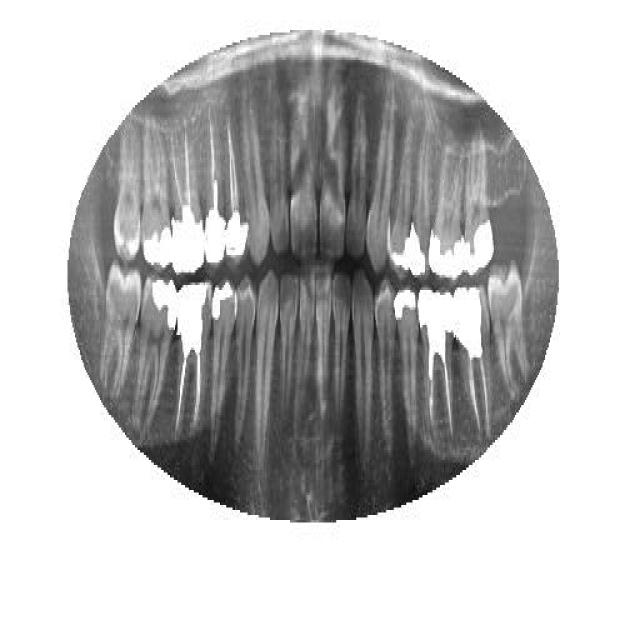Fillings: (132, 278, 178, 432), (430, 125, 465, 283), (208, 273, 238, 445), (138, 120, 172, 270), (394, 280, 420, 465), (462, 120, 493, 275), (389, 120, 411, 282), (410, 122, 430, 280)
Implant: (172, 275, 212, 430), (451, 285, 491, 435), (168, 118, 204, 278), (419, 288, 449, 450), (225, 95, 250, 260), (200, 103, 225, 265)
